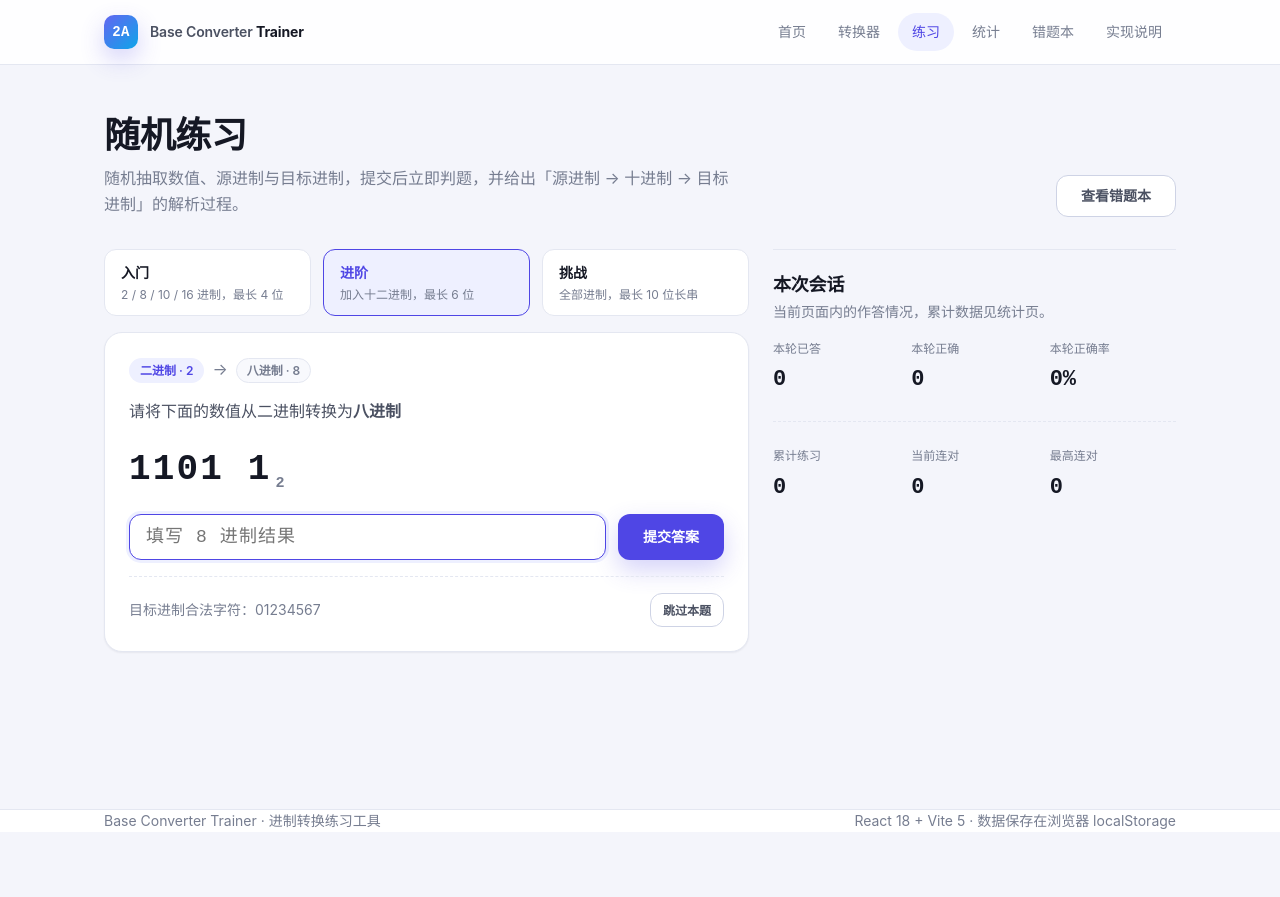
Scenario: 练习页 · 判题 › 填写正确答案并提交后，反馈回答正确
Step 1. Type "33" into the field named "答案输入框" → (367, 537), box [129,514,606,560]
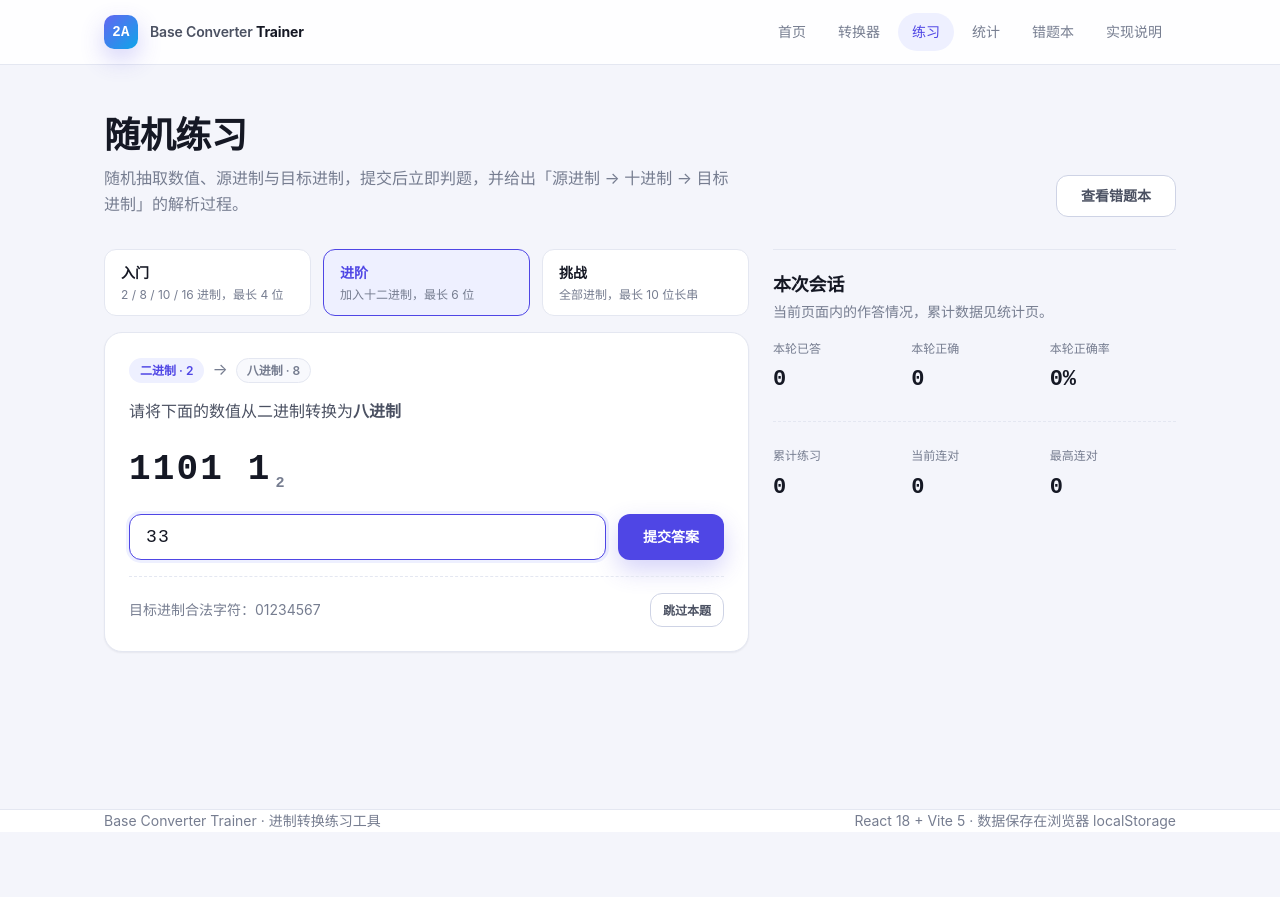
Step 2. Click the button "提交答案" → click(671, 537), box [618,514,724,560]
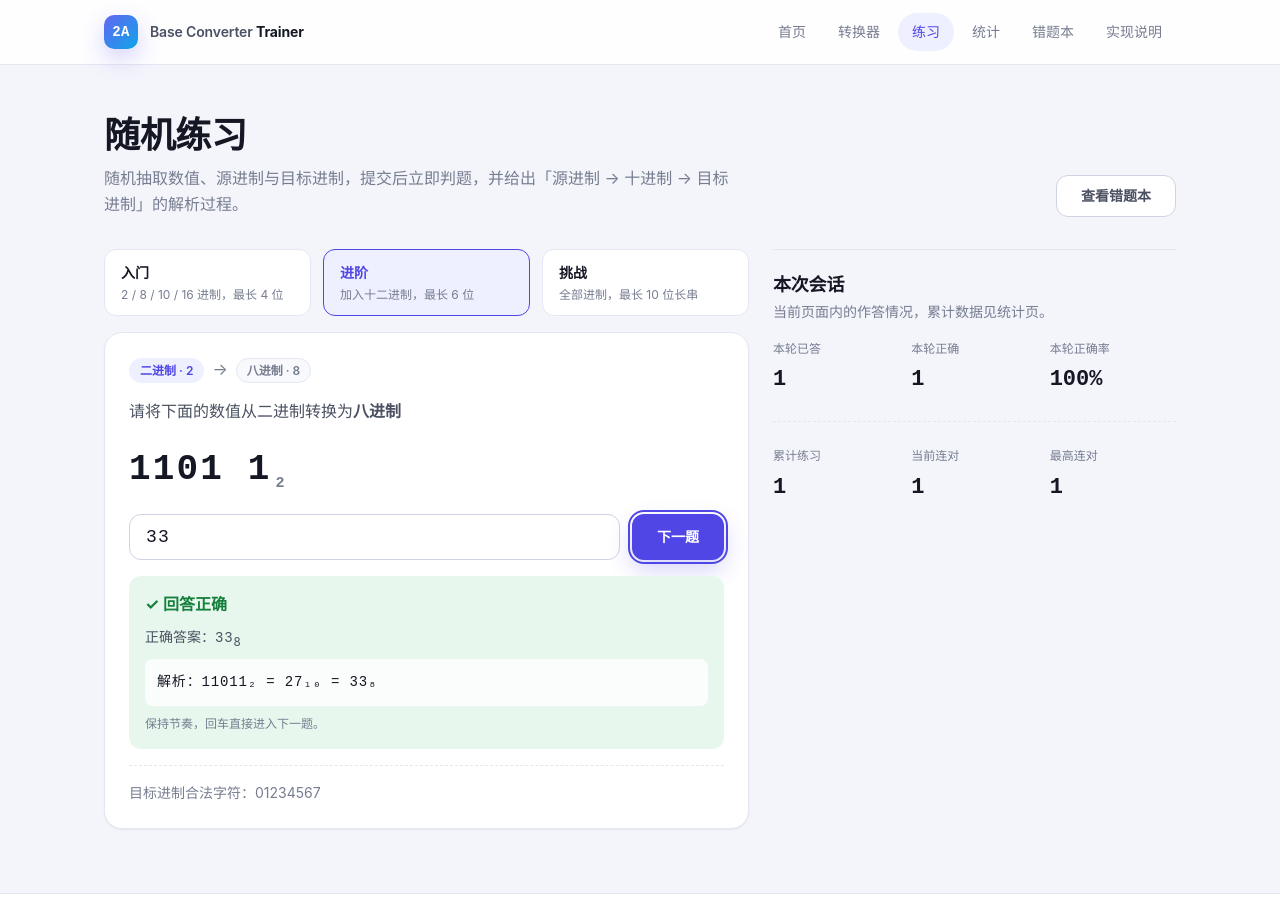
Expected: the text "✓ 回答正确" is shown, [145,594,227,614]
